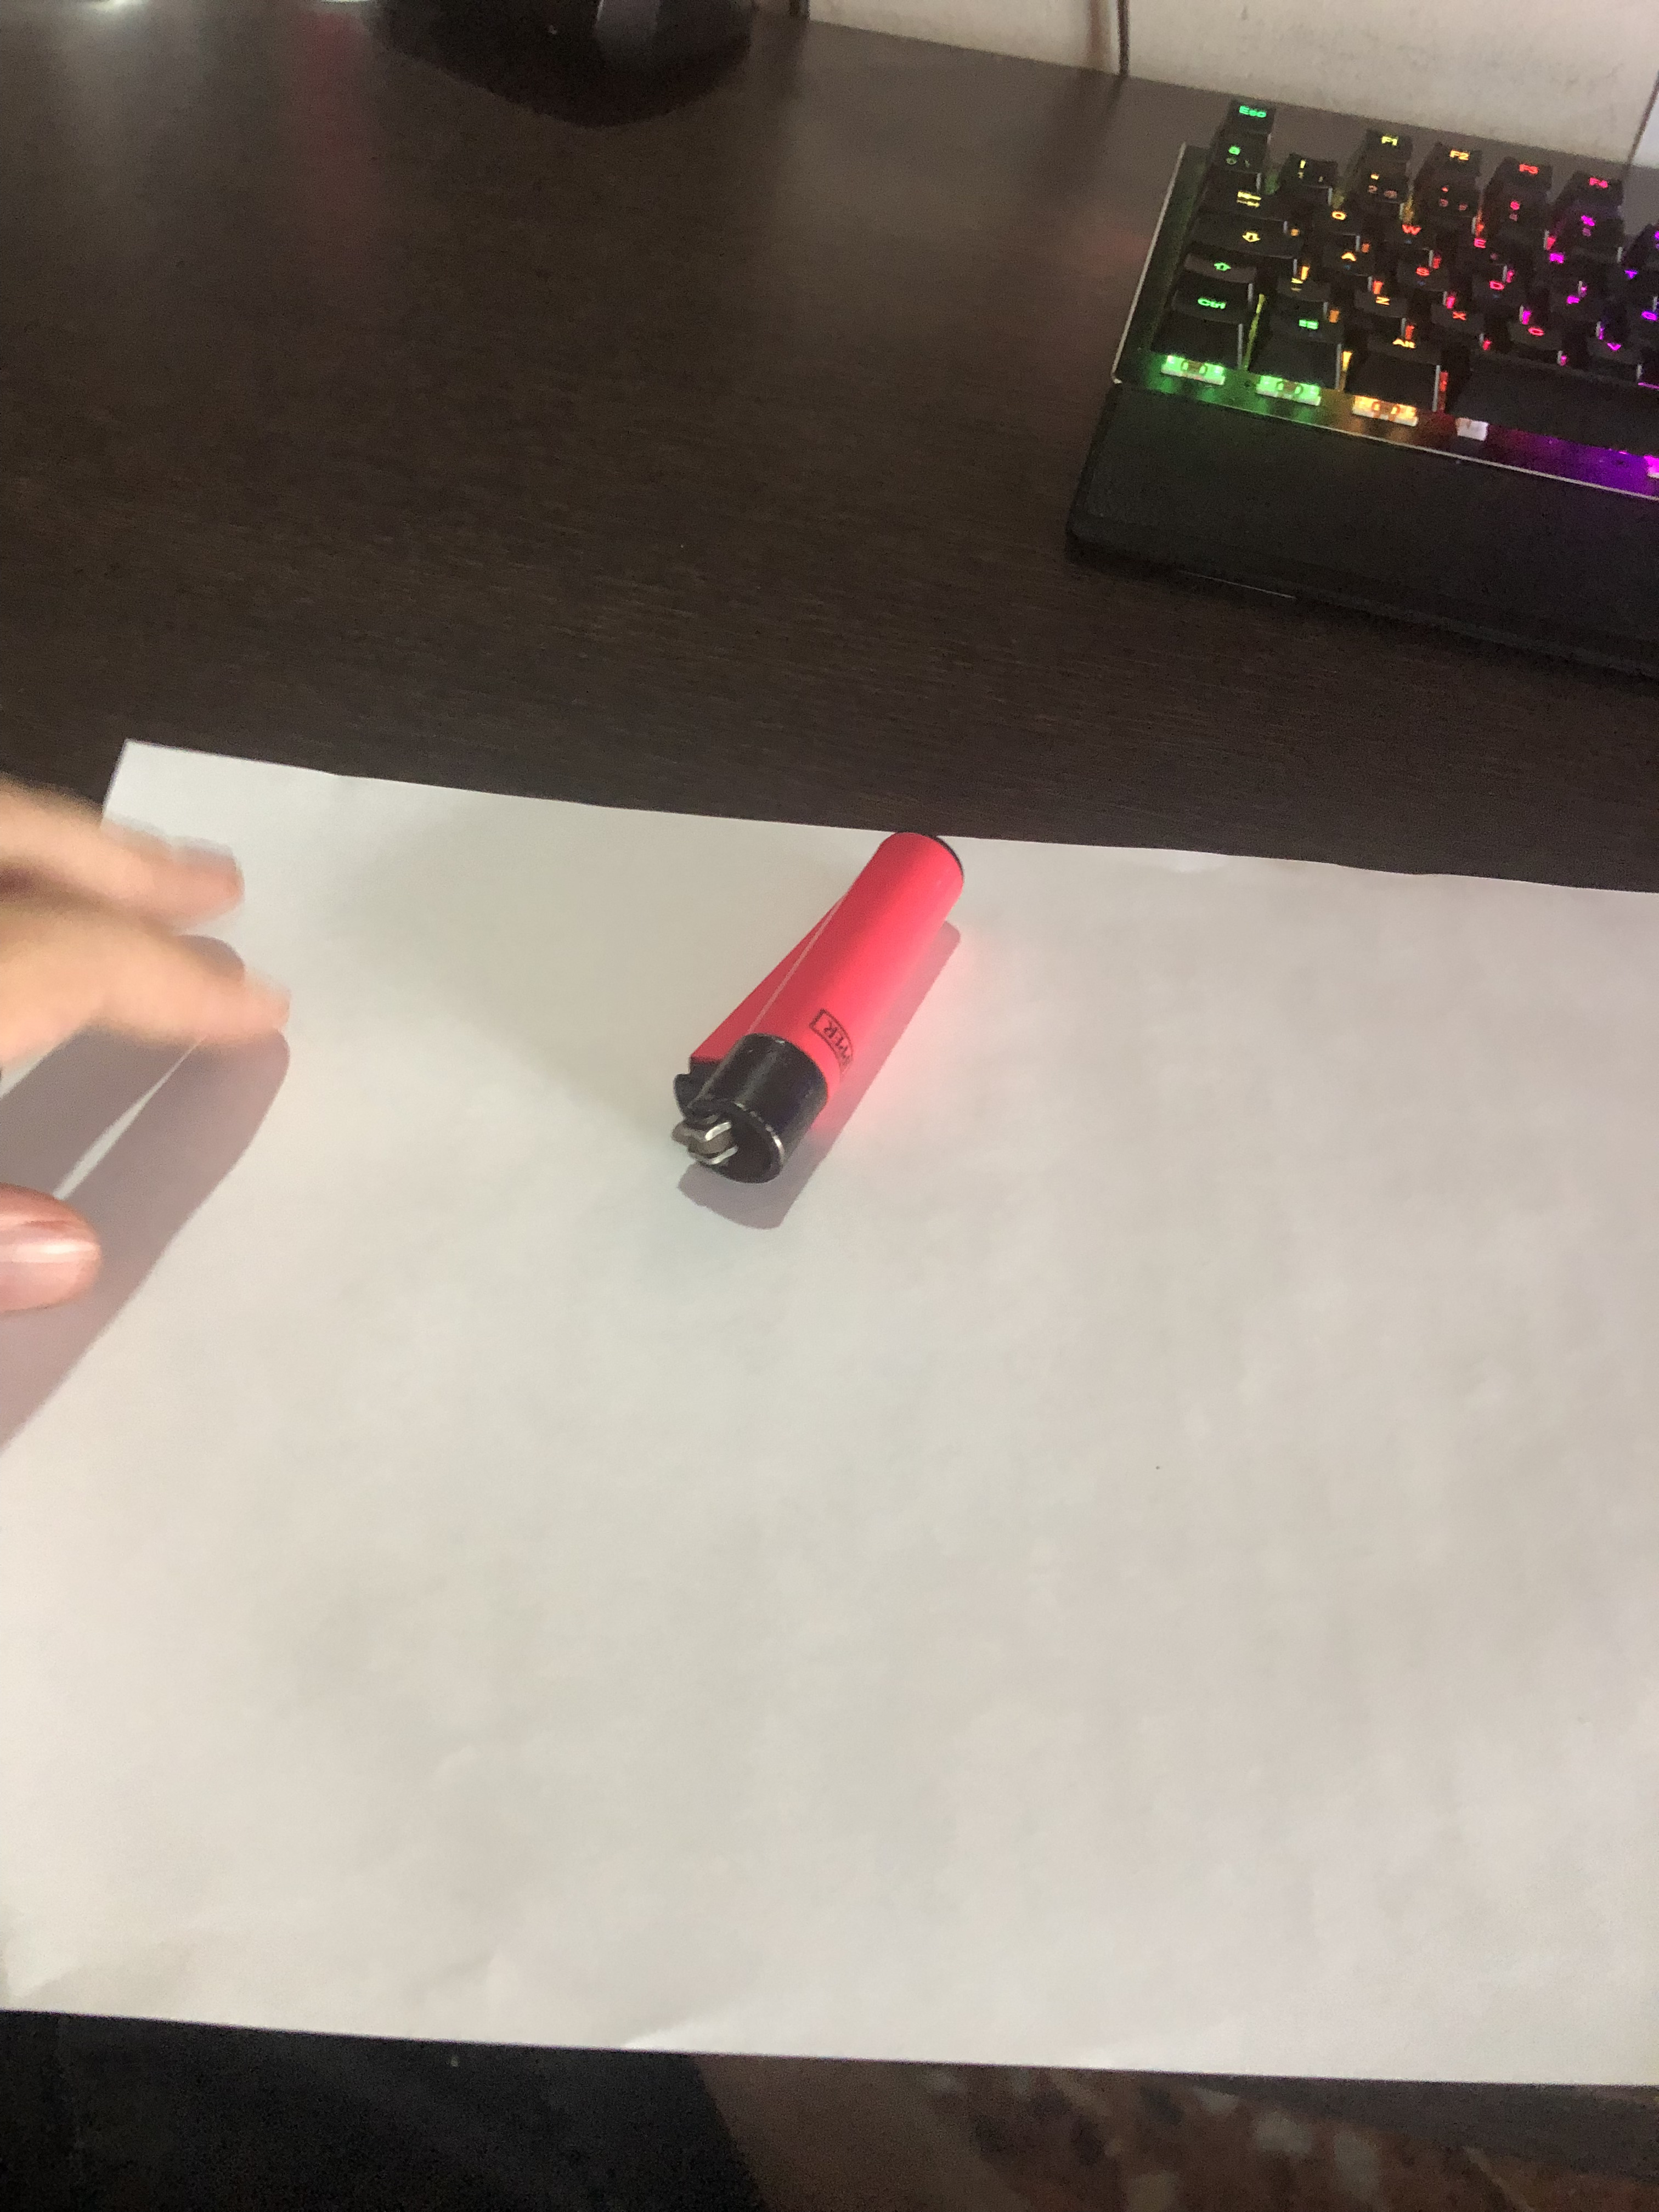Mechero: (634, 806, 983, 1219)
